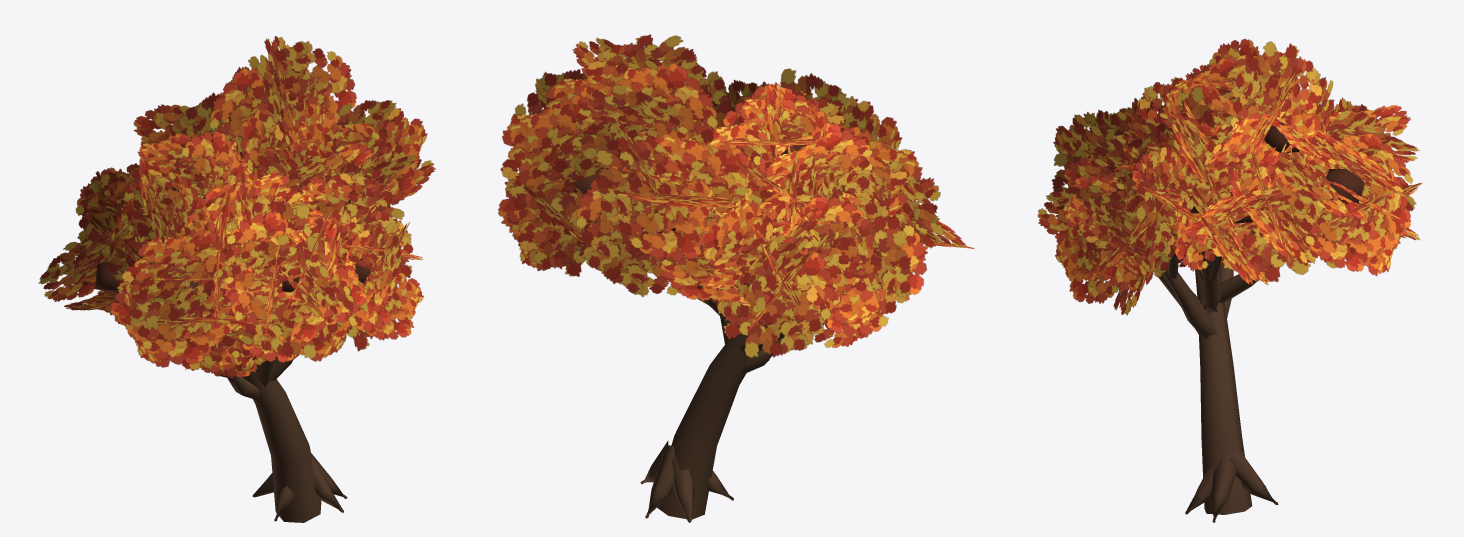
File: nature_maple2.glb
The picture shows the model from 3 angles, left to right: view 1: azimuth 30°, elevation 25°; view 2: azimuth 150°, elevation 25°; view 3: azimuth 270°, elevation 25°; orthographic projection. The views are drawn at different scales.
Parts seen in each view (by area): view 1: nature_maple2; view 2: nature_maple2; view 3: nature_maple2.
Part boxes in pixels (x1,y1,x2,y2): nature_maple2: (38, 36, 435, 522); nature_maple2: (498, 34, 974, 522); nature_maple2: (1037, 38, 1422, 522).
Bounding box in the file's own units: 5.9 × 6.54 × 5.08.
3 materials, 1 textured.
